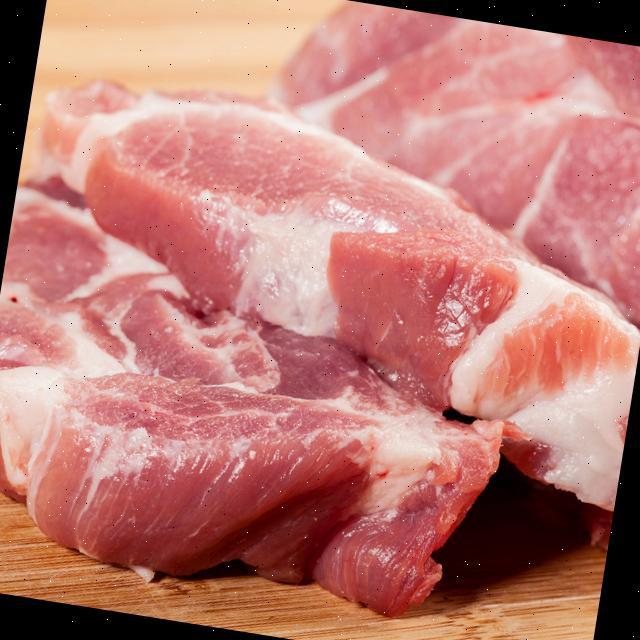meat: (0, 60, 640, 640), (0, 338, 508, 628), (384, 241, 640, 438)
